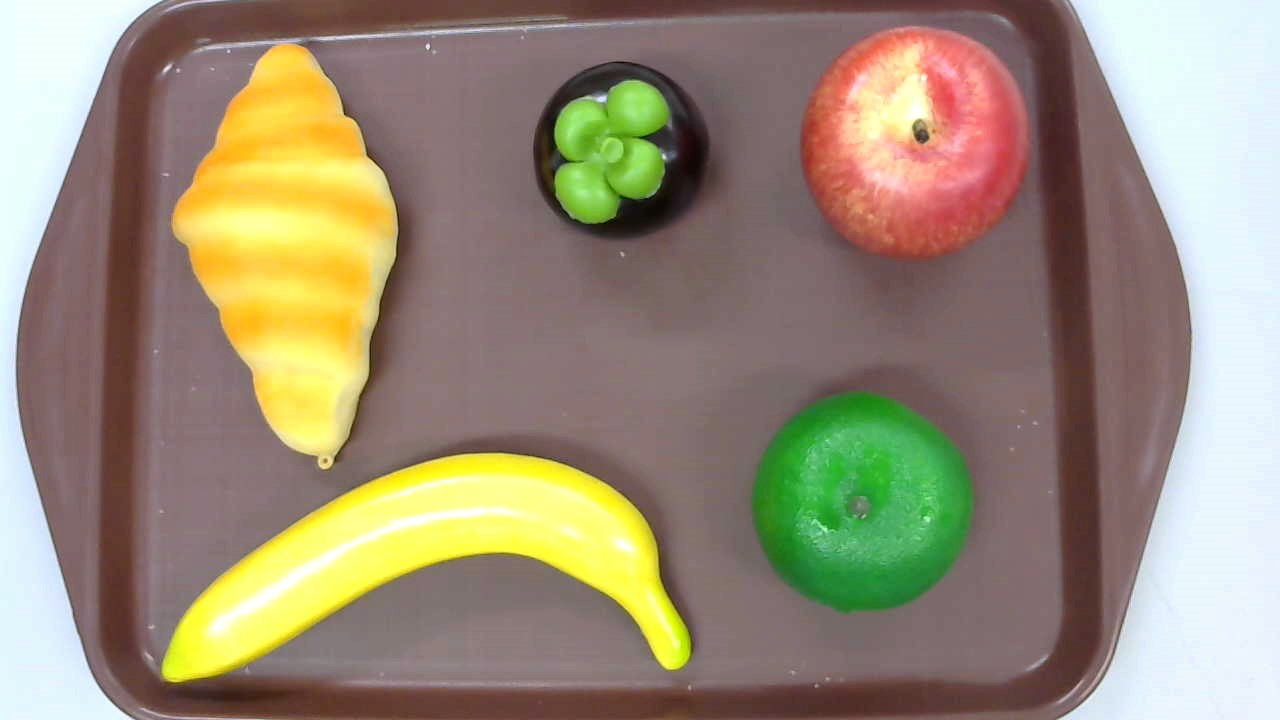banana: (161, 453, 693, 685)
croissant: (172, 44, 398, 469)
green orange: (752, 391, 975, 613)
mangosteen: (532, 61, 710, 241)
red apple: (800, 25, 1030, 261)
